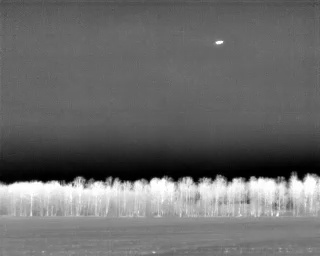DRONE: (212, 36, 227, 49)
